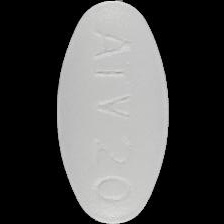43063-496: (0, 0, 224, 224)
